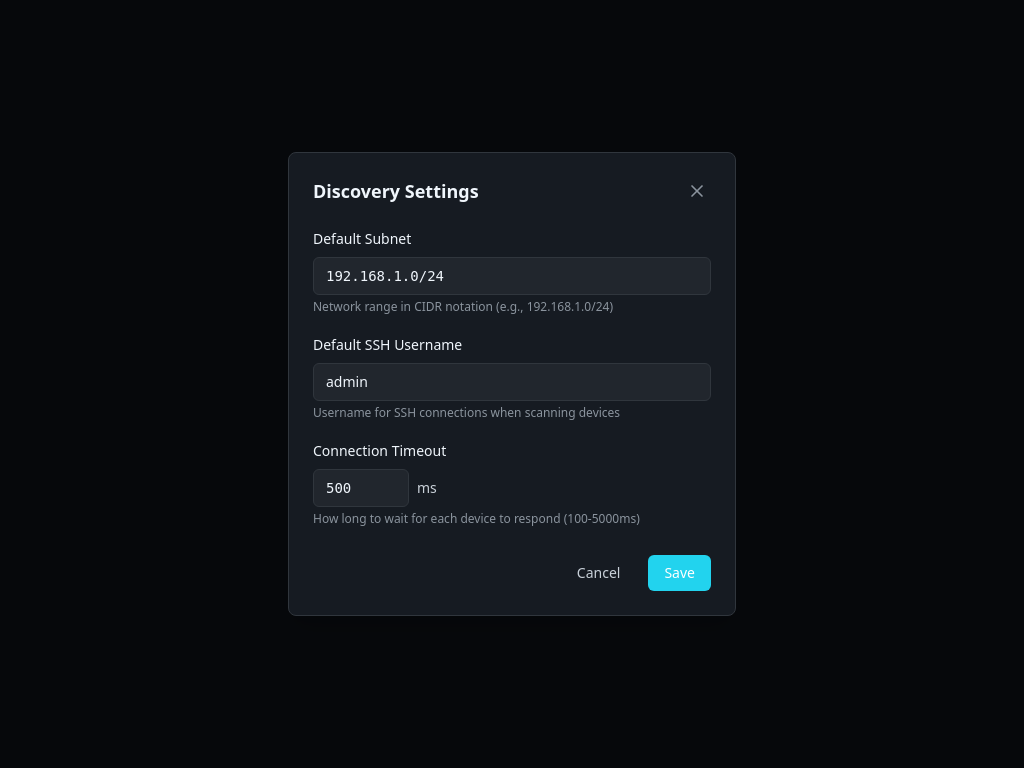
Test: DiscoverySettingsModal › saving settings › shows error message on save failure
Type "10.0.0.0/24" into the field with test id "subnet-input". click: (512,276)
box: [313,257,711,295]
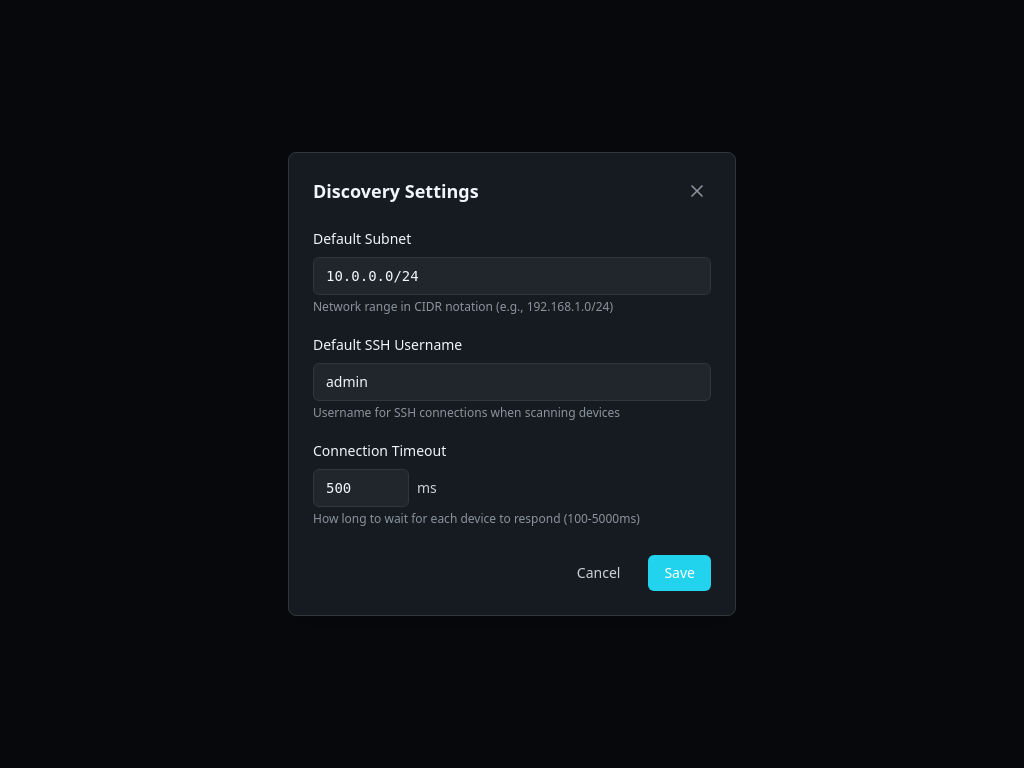
Click the button with test id "save-settings-button". click: (680,573)
box: [648,555,711,591]
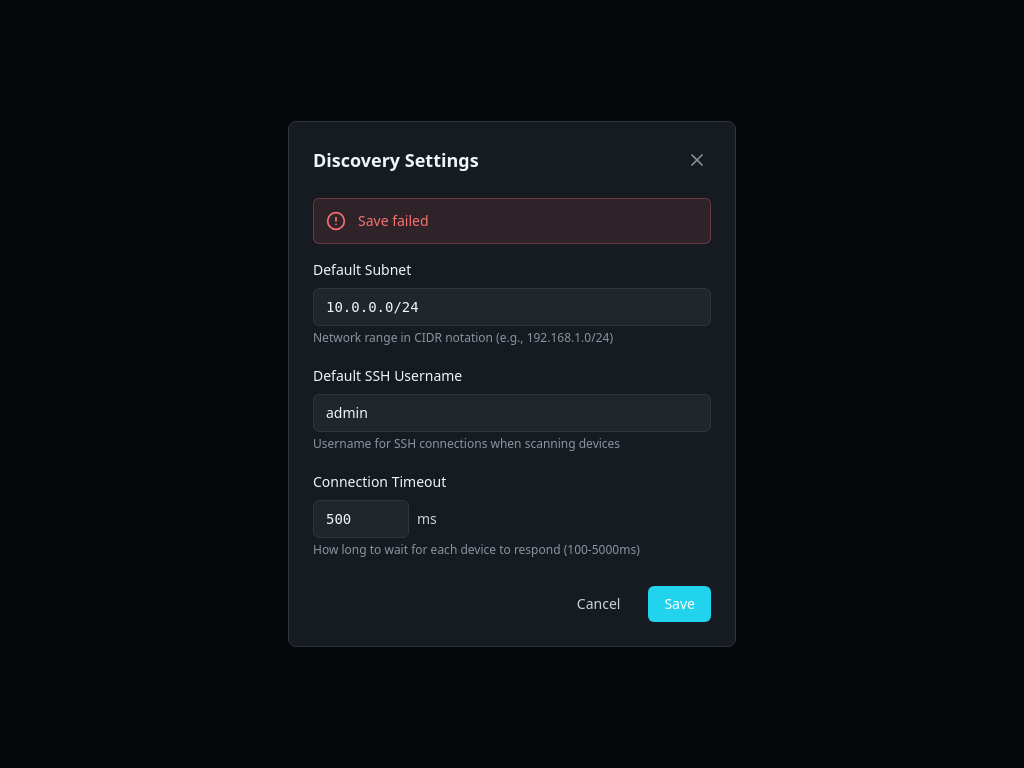
expect the text "Save failed" is shown: met, box [358,211,429,231]
